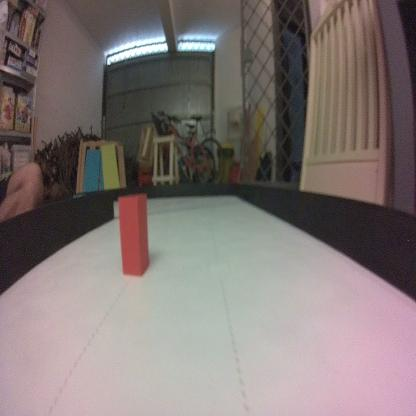red: (116, 193, 150, 278)
